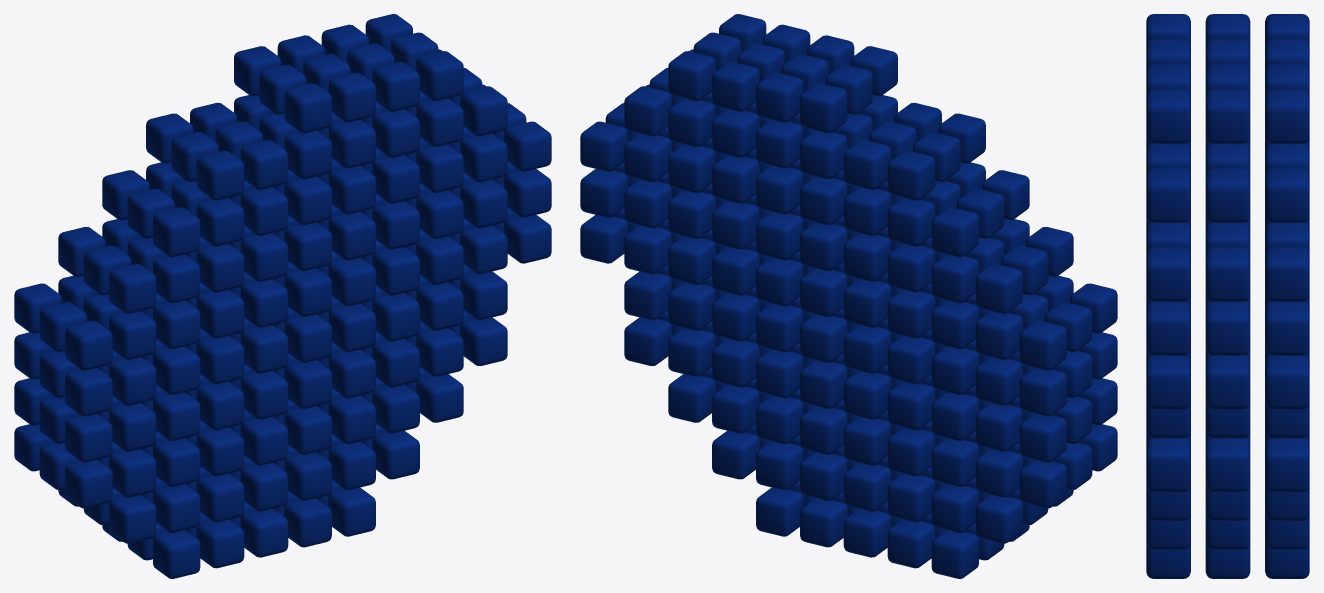
Rendered from ball.gltf.
3 renders of one model, left to right at view 1: azimuth 30°, elevation 25°; view 2: azimuth 150°, elevation 25°; view 3: azimuth 270°, elevation 25°, orthographic. The views are drawn at different scales.
Visible parts, largest first — view 1: en.077, en.033, en.023, en.103, en.027, en.005, en.004, en.003, en.010, en.777, en.085, en.308 (+102 smaller); view 2: en.214, en.151, en.139, en.256, en.143, en.111, en.110, en.109, en.118, en.779, en.226, en.533 (+102 smaller); view 3: en.485, en.518, en.527, en.529, en.550, en.528, en.301, en.308, en.522, en.533, en.306, en.319 (+33 smaller).
Boxes of the visible parts, x1,y1,x2,y2 form: en.077: [196, 150, 244, 200]; en.033: [153, 207, 200, 257]; en.023: [65, 320, 112, 370]; en.103: [284, 83, 331, 133]; en.027: [109, 264, 156, 313]; en.005: [65, 368, 112, 416]; en.004: [65, 414, 112, 462]; en.003: [65, 459, 112, 508]; en.010: [109, 495, 156, 543]; en.777: [153, 530, 200, 578]; en.085: [240, 140, 288, 189]; en.308: [504, 121, 551, 171]; en.214: [887, 150, 935, 200]; en.151: [931, 207, 978, 257]; en.139: [1019, 320, 1066, 370]; en.256: [800, 83, 847, 133]; en.143: [975, 264, 1022, 313]; en.111: [1019, 368, 1066, 416]; en.110: [1019, 414, 1066, 462]; en.109: [1019, 459, 1066, 508]; en.118: [975, 495, 1022, 543]; en.779: [931, 530, 978, 578]; en.226: [843, 140, 891, 189]; en.533: [580, 121, 627, 171]; en.485: [1205, 438, 1250, 492]; en.518: [1205, 168, 1250, 222]; en.527: [1205, 355, 1250, 409]; en.529: [1205, 247, 1250, 301]; en.550: [1205, 89, 1250, 143]; en.528: [1205, 301, 1250, 355]; en.301: [1146, 168, 1190, 222]; en.308: [1146, 247, 1190, 301]; en.522: [1265, 168, 1309, 222]; en.533: [1265, 247, 1309, 301]; en.306: [1146, 355, 1190, 409]; en.319: [1146, 89, 1190, 143].
Size of the model in its own units: 2.15 by 1.95 by 0.55.
